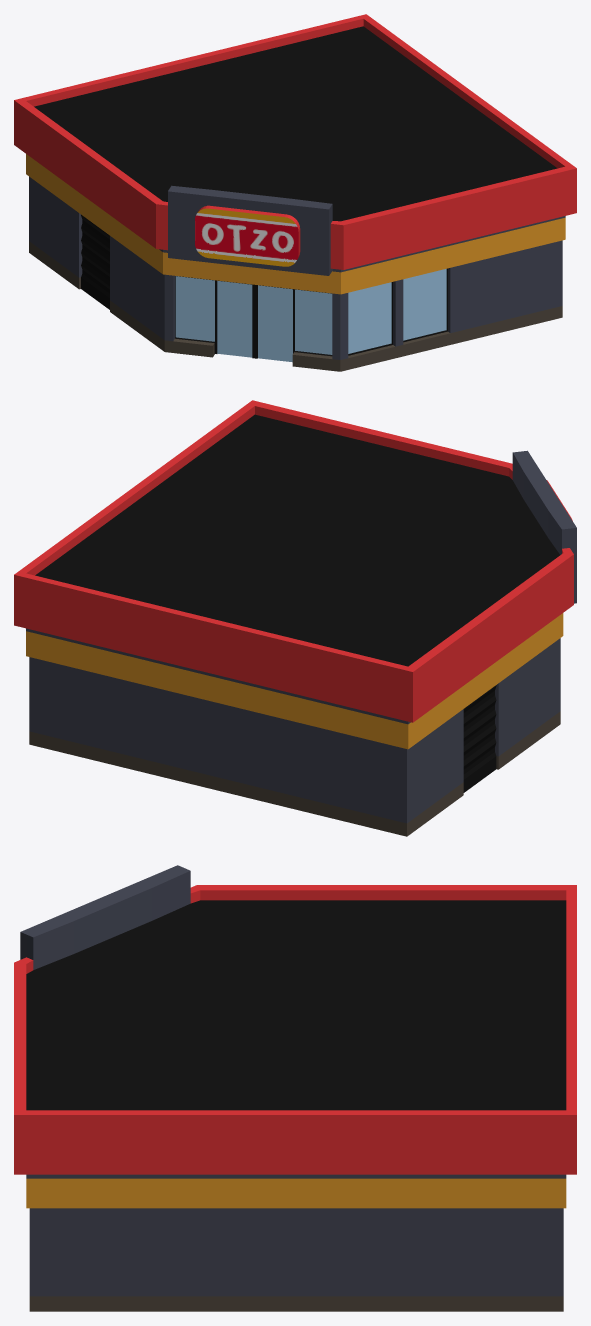
Rendered from Oxxo.fbx.
3 renders of one model, top to bottom at view 1: azimuth 30°, elevation 25°; view 2: azimuth 150°, elevation 25°; view 3: azimuth 270°, elevation 25°, orthographic. The views are drawn at different scales.
Parts seen in each view (by area): view 1: Cube; view 2: Cube; view 3: Cube.
Boxes of the visible parts, x1,y1,x2,y2 form: Cube: (14, 14, 576, 371); Cube: (14, 400, 576, 836); Cube: (14, 865, 576, 1311).
Bounding box in the file's own units: 3740 × 1709 × 3872.
7 materials, 1 textured.
